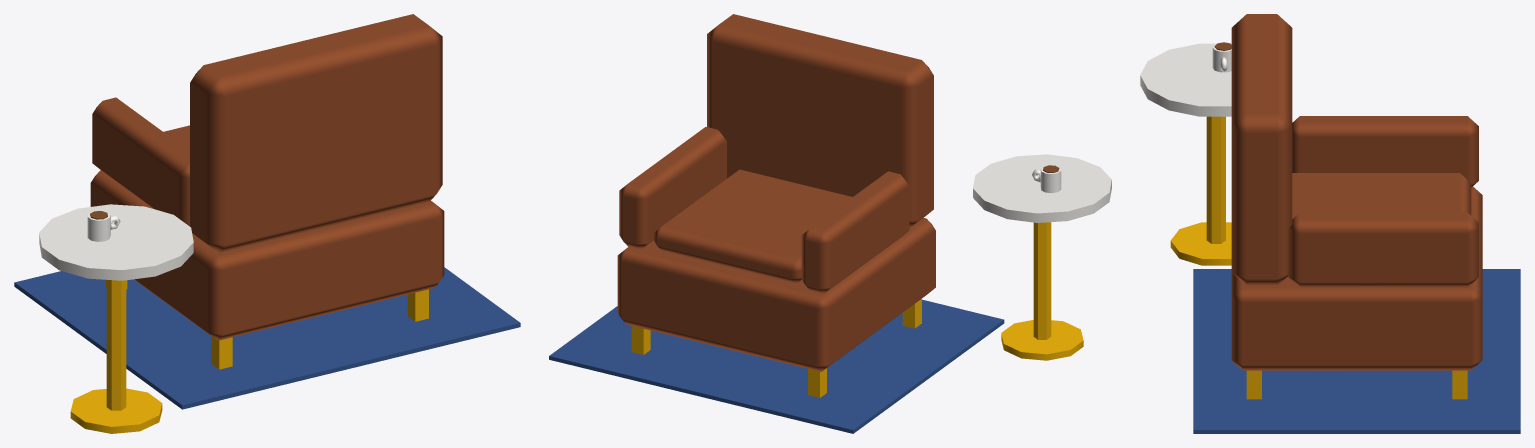
File: station_processing_basis.glb
3 views of the same model, side by side, from view 1: azimuth 30°, elevation 25°; view 2: azimuth 150°, elevation 25°; view 3: azimuth 270°, elevation 25° (orthographic). The views are drawn at different scales.
Visible parts, largest first — view 1: station_processing_basis; view 2: station_processing_basis; view 3: station_processing_basis.
Boxes of the visible parts, x1,y1,x2,y2 form: station_processing_basis: (14,14,520,433); station_processing_basis: (549,14,1111,433); station_processing_basis: (1140,14,1520,433).
Bounding box in the file's own units: 1.35 × 0.84 × 1.
